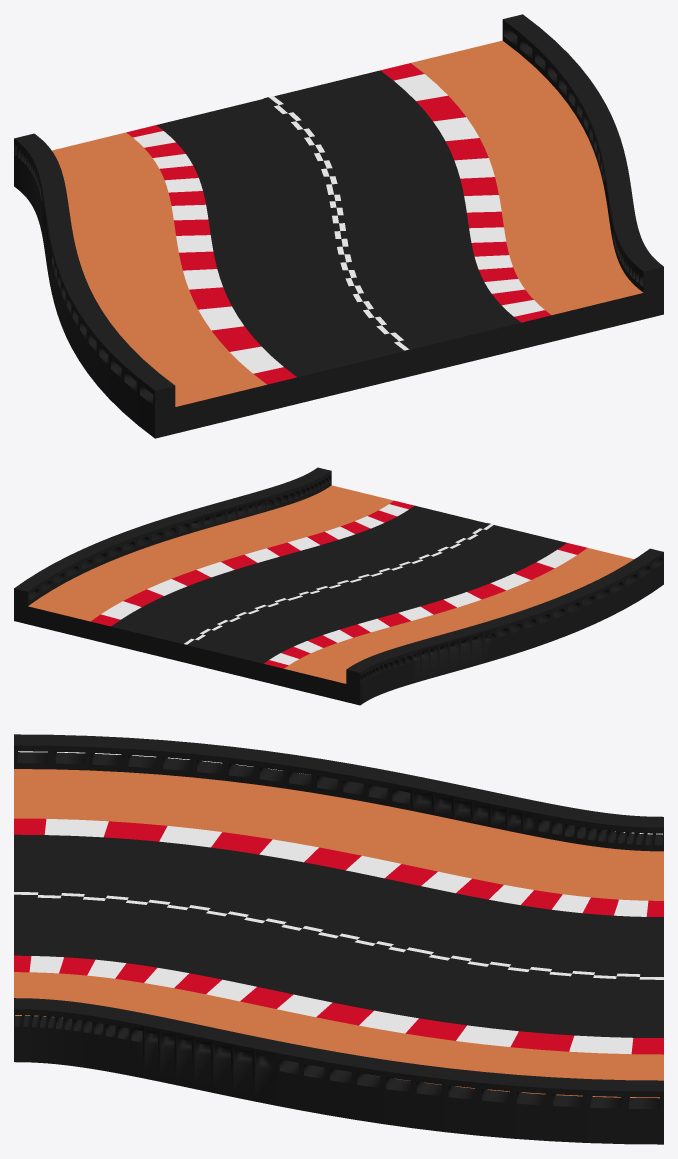
The model's file is ModularTrackCantMediumRight-Deux.fbx.
3 renders of one model, top to bottom at view 1: azimuth 30°, elevation 25°; view 2: azimuth 150°, elevation 25°; view 3: azimuth 270°, elevation 25°, orthographic. The views are drawn at different scales.
Parts seen in each view (by area): view 1: ModularTrackCantMediumRight, LaneDivider; view 2: ModularTrackCantMediumRight, LaneDivider; view 3: ModularTrackCantMediumRight, LaneDivider.
Part boxes in pixels (bbox=[...]): ModularTrackCantMediumRight: bbox=[14, 14, 663, 438]; LaneDivider: bbox=[263, 96, 414, 350]; ModularTrackCantMediumRight: bbox=[14, 467, 663, 705]; LaneDivider: bbox=[184, 523, 493, 645]; ModularTrackCantMediumRight: bbox=[14, 734, 663, 1144]; LaneDivider: bbox=[14, 892, 663, 979].
Size of the model in its own units: 1300 by 90 by 1000.
